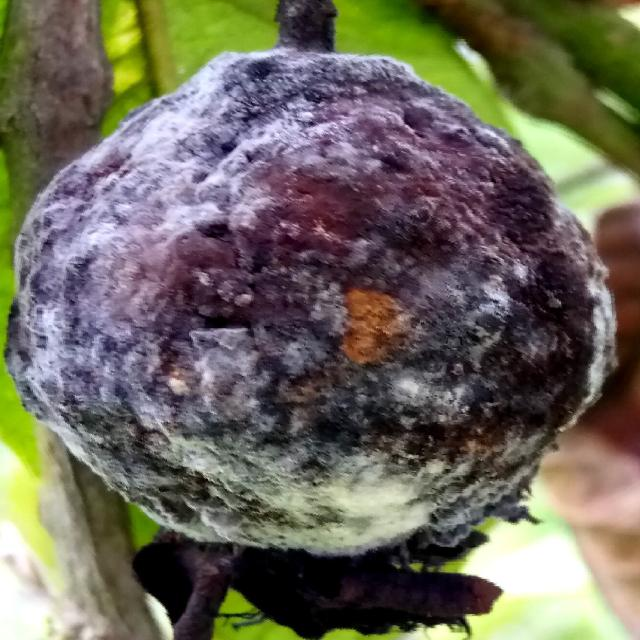Phytopthora: (9, 46, 614, 554), (357, 302, 360, 305)
